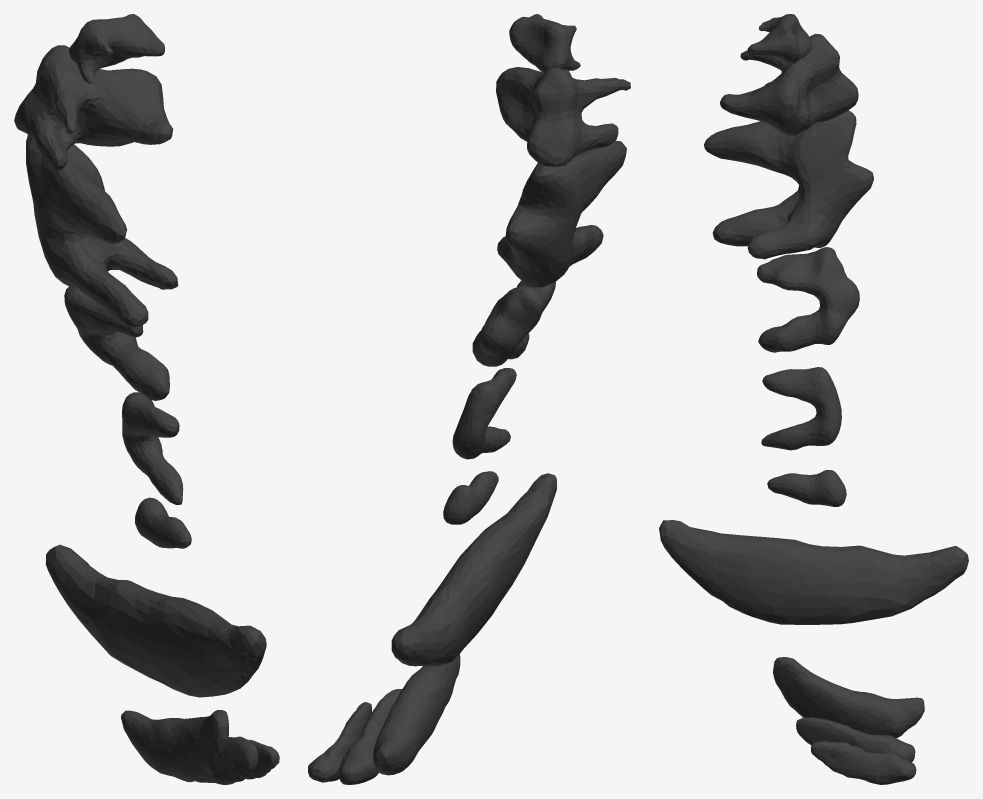
File: 101tooth.glb
3 renders of one model, left to right at view 1: azimuth 30°, elevation 25°; view 2: azimuth 150°, elevation 25°; view 3: azimuth 270°, elevation 25°, orthographic. The views are drawn at different scales.
Visible parts, largest first — view 1: 101tooth; view 2: 101tooth; view 3: 101tooth.
Boxes of the visible parts, x1,y1,x2,y2 form: 101tooth: [14, 14, 279, 784]; 101tooth: [308, 14, 630, 784]; 101tooth: [659, 14, 968, 784].
Size of the model in its own units: 0.342 by 1.06 by 0.4275.
1 material, 1 textured.
